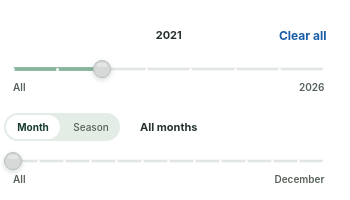
Test case: TemporalFilters › aligns Clear all with the centred year value without shifting the heading height
This screenshot has width=350, height=200.
Expected: the element with test id "year-slider-heading" has style "minHeight: 44; alignItems: center", [129, 13, 334, 57]
Expected: the element with test id "year-slider-heading" has style "minHeight: 44; flexDirection: row; alignItems: center", [129, 13, 334, 57]
Click the button "Clear all".
click(303, 35)  # box [272, 13, 334, 57]
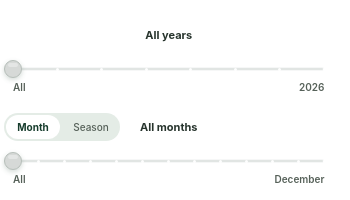
Expected: the text "All years" is shown, [129, 24, 209, 46]
Expected: the button "Clear all" is gone
